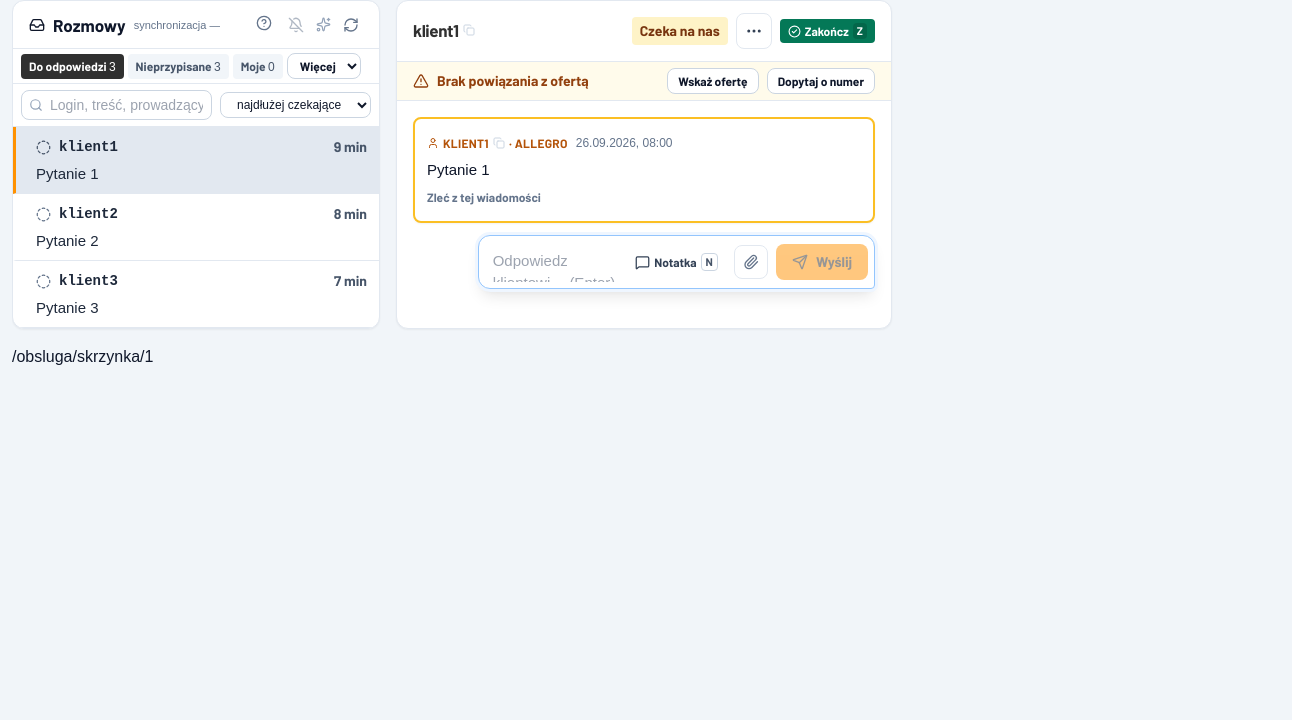
Test case: EKRAN SKRZYNKI: pętla pracy › wysyłka to ruch — przejście dalej po niej nie jest pominięciem, a „Cofnij” niesie czas
The image size is (1292, 720).
Type "Odpowiedź" into the text box named "Szkic odpowiedzi". click: (556, 262)
box: [493,242,619,282]
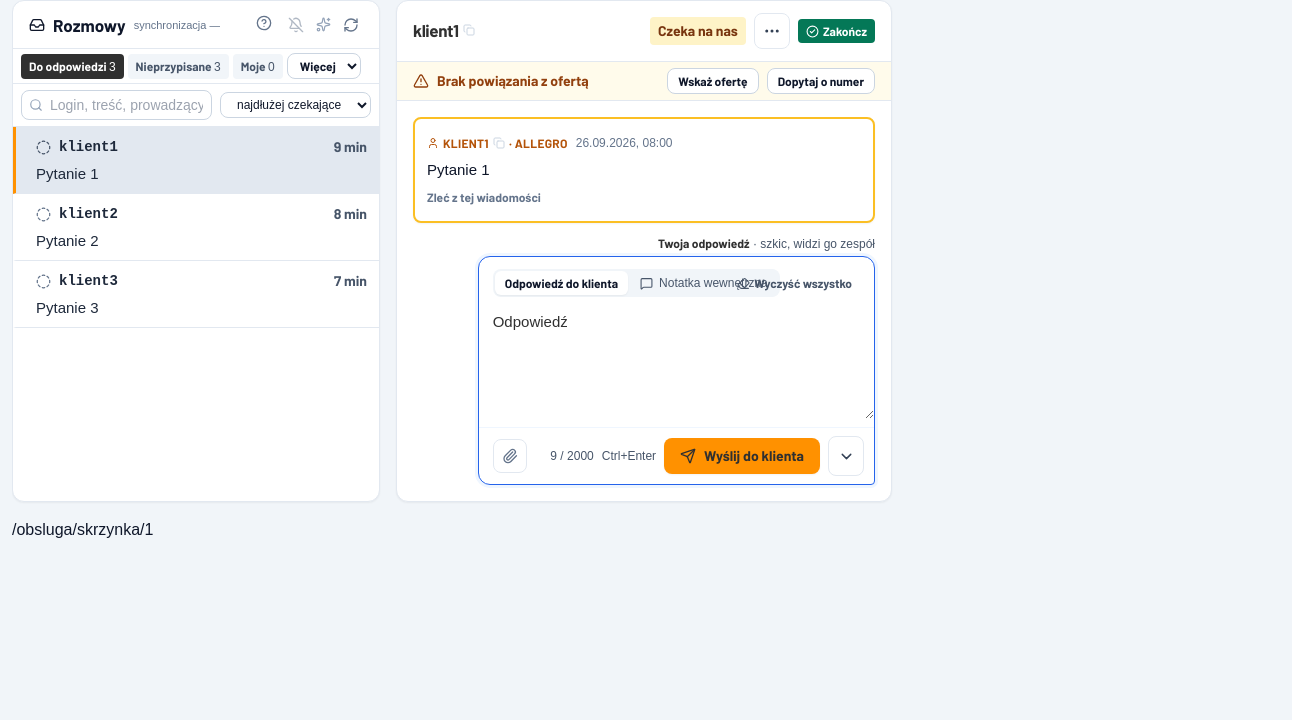
Click the button "Wyślij do klienta". click: (742, 456)
box: [664,438,820,474]
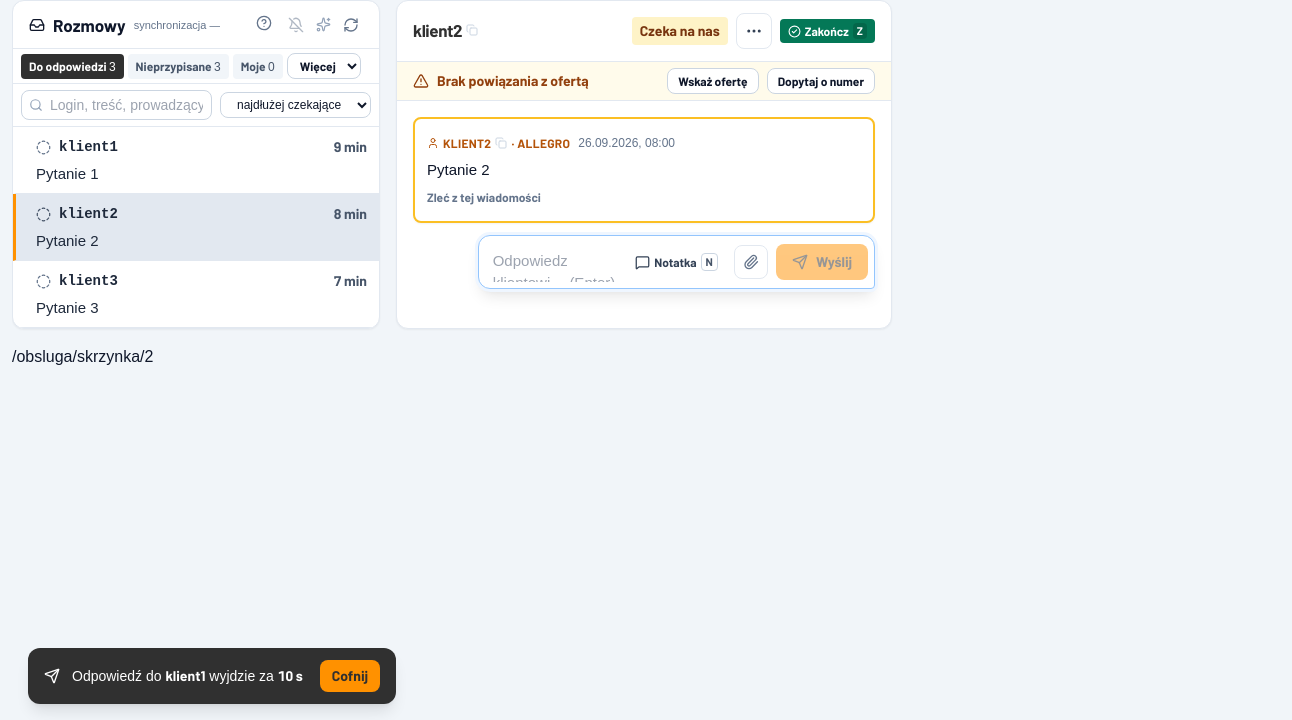
Expected: the text named "adres" reads "/obsluga/skrzynka/2", [12,348,153,365]
Click the button "Cofnij". click: (350, 676)
box: [320,660,380,692]
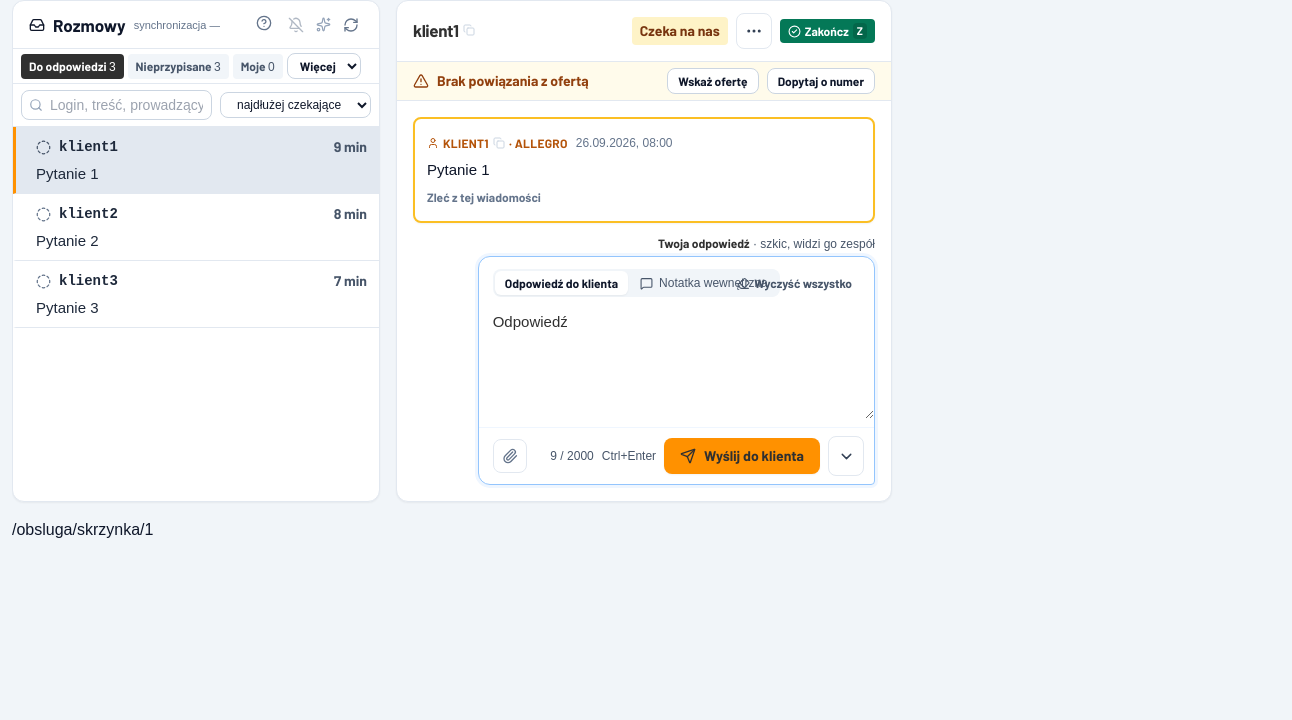
Expected: the text named "adres" reads "/obsluga/skrzynka/1", [12,521,153,538]
